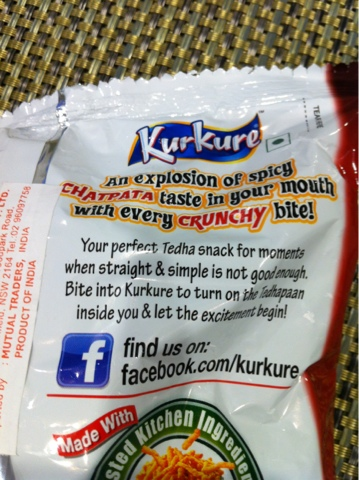kurkure: (135, 122, 275, 162)
plastic: (2, 82, 356, 475)
wrapper: (19, 107, 331, 467)
